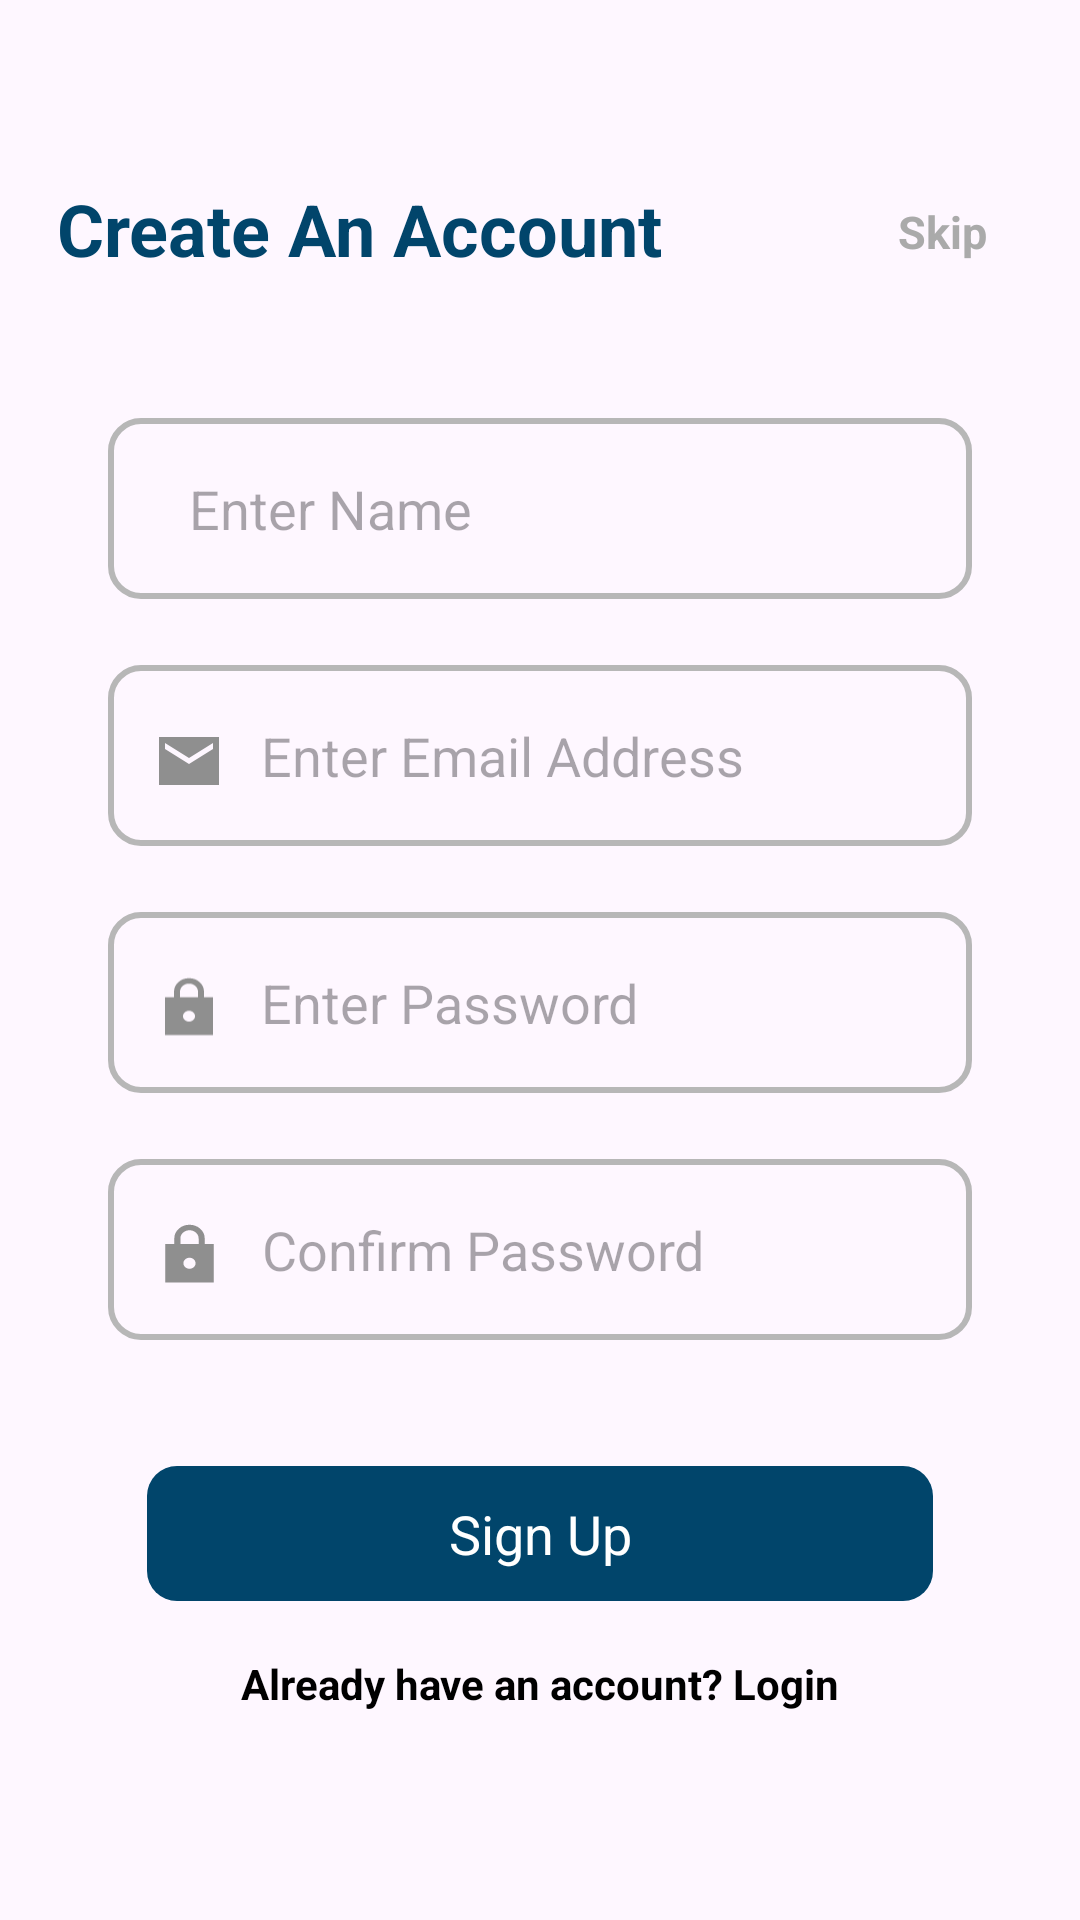

Named icons in this screenshot (1080*1920) and their bounding boxes, (x1, y1, x2, y2):
lock: (165, 978, 213, 1036), (165, 1224, 214, 1283)
